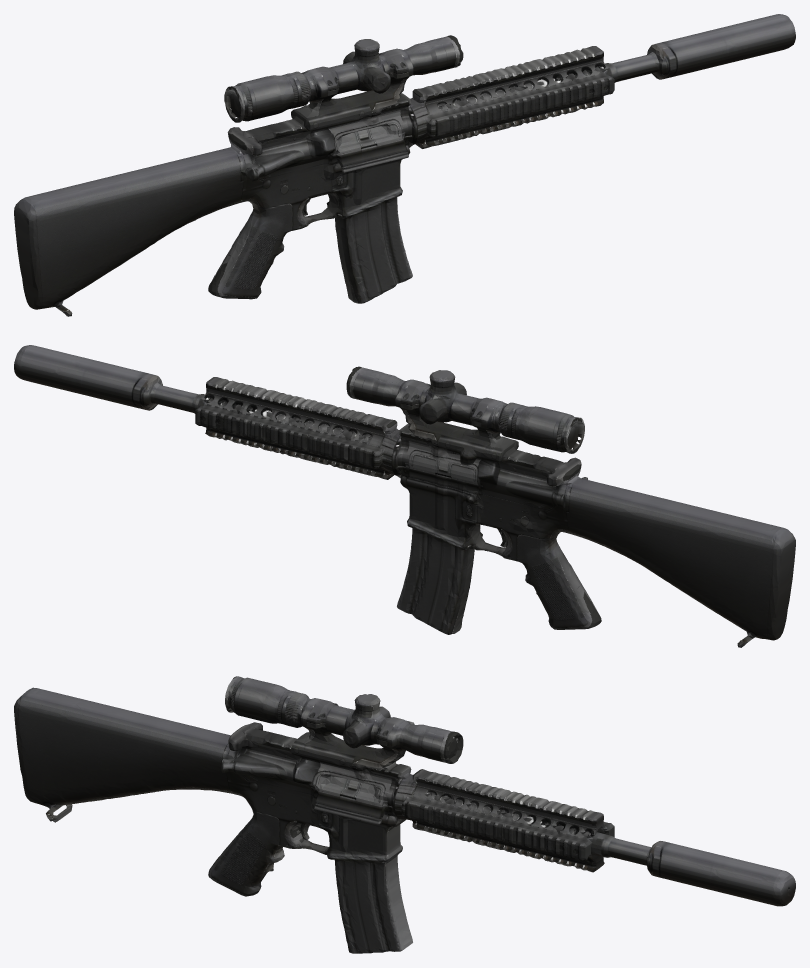
3 views of the same model, one above another, from view 1: azimuth 30°, elevation 25°; view 2: azimuth 150°, elevation 25°; view 3: azimuth 330°, elevation 25° (orthographic).
Visible parts, largest first — view 1: world; view 2: world; view 3: world.
Boxes of the visible parts, box(x1,y1,x2,y2) form: world: box(14, 14, 795, 316); world: box(14, 345, 795, 647); world: box(14, 676, 795, 953).
Bounding box in the file's own units: 1.9 × 0.6024 × 0.1441.
Materials: 1 (1 with a texture image).
